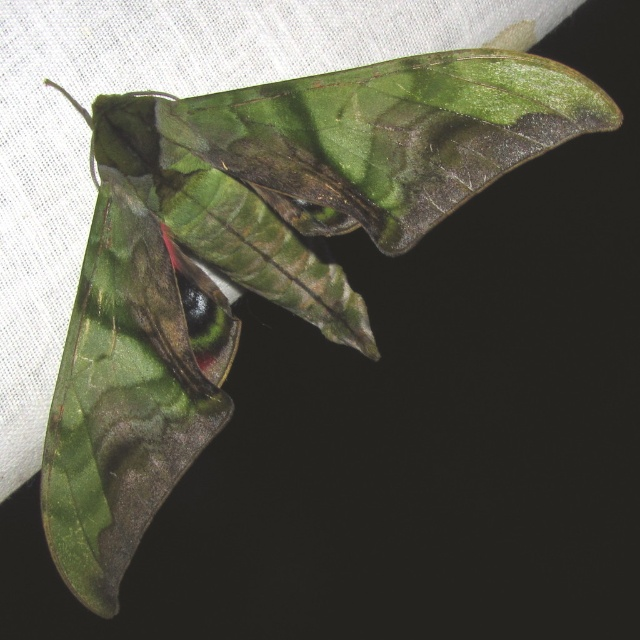Moths and butterflies: (44, 43, 624, 622)
